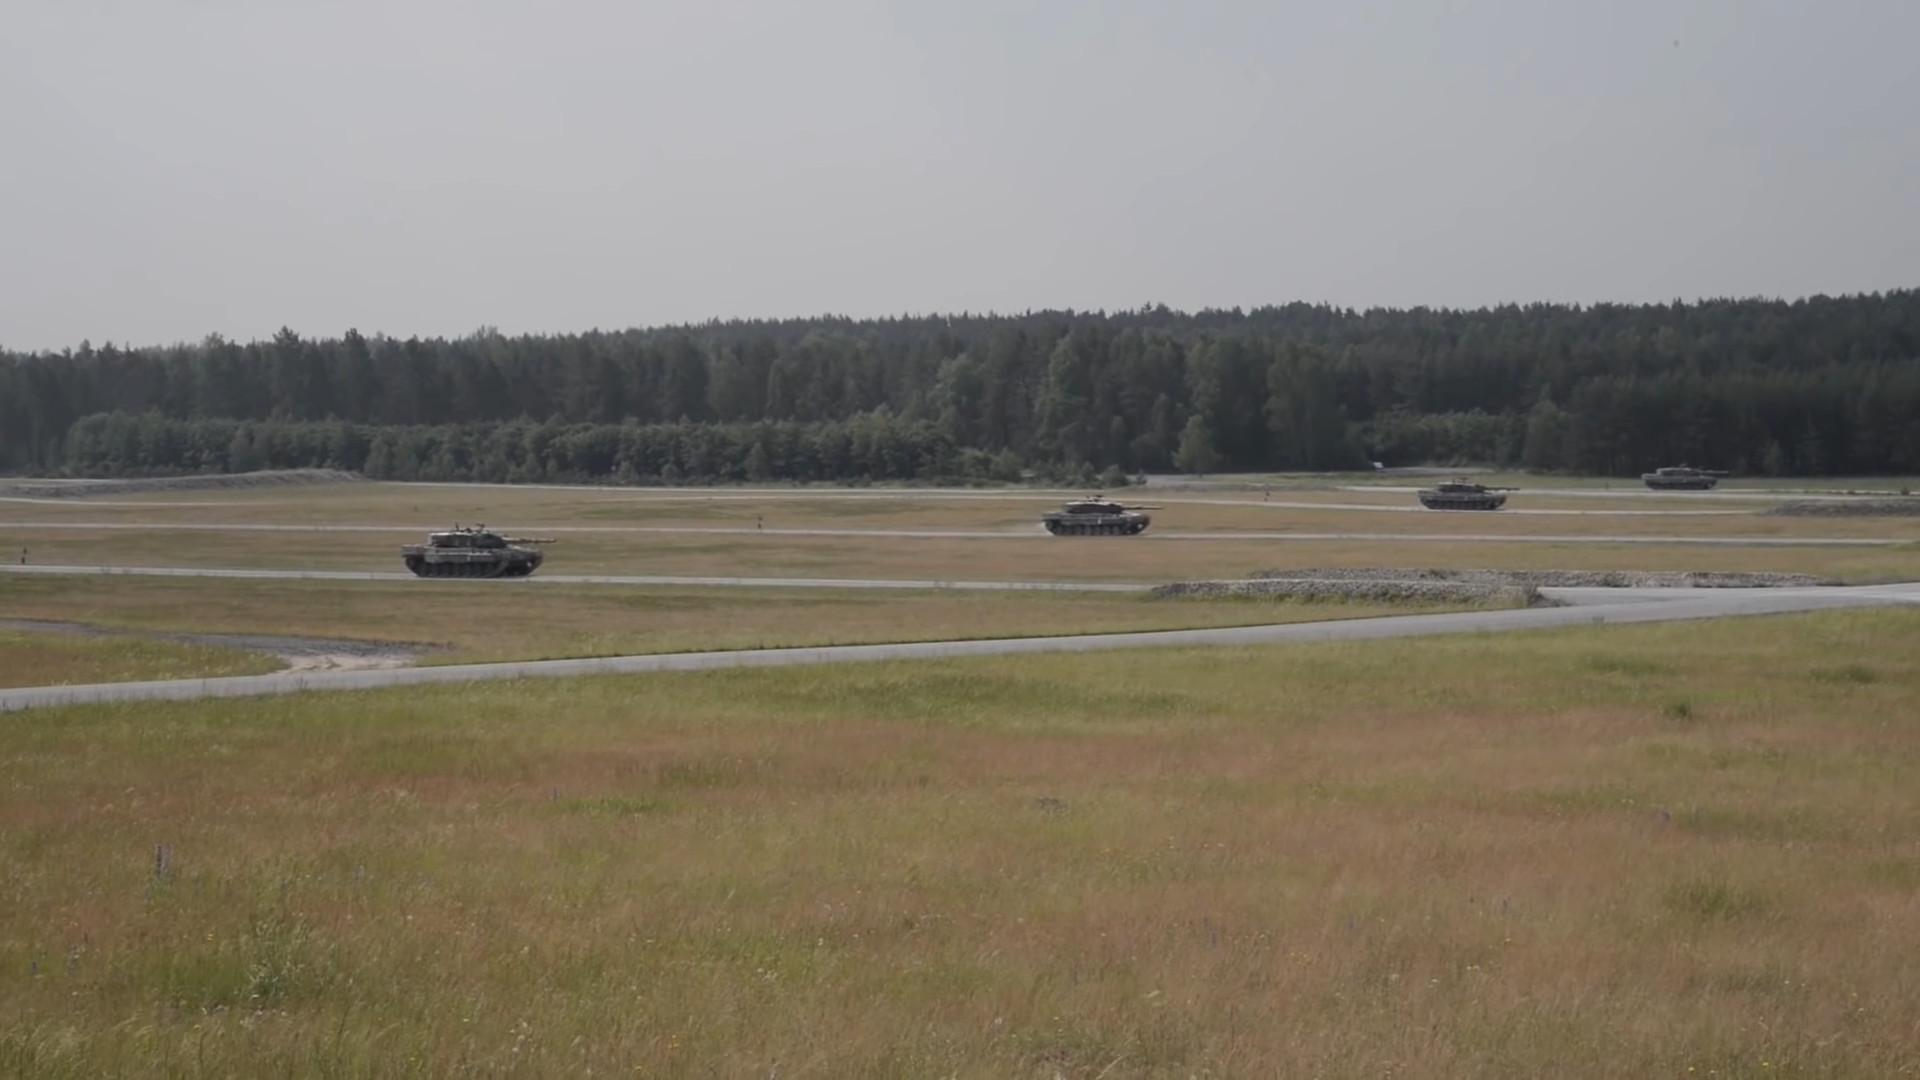tank: (401, 533, 556, 578), (1042, 502, 1163, 535), (1416, 484, 1520, 509), (1642, 468, 1729, 489)
